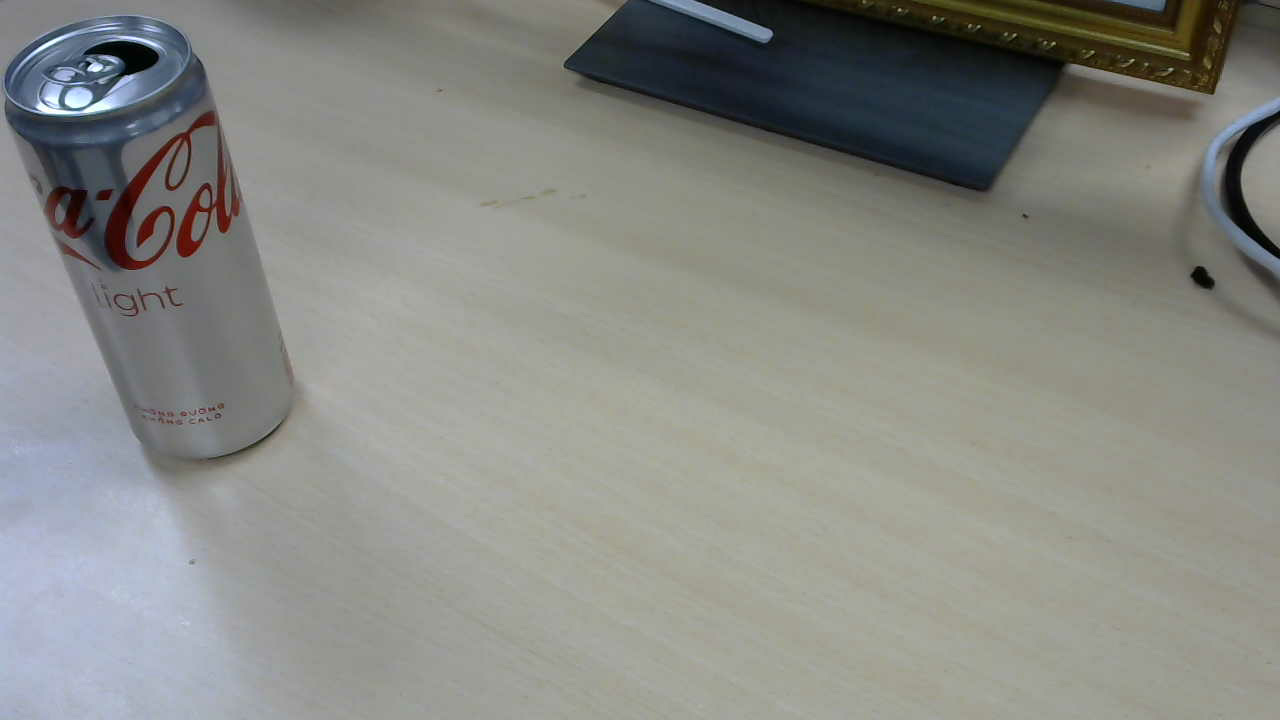Coca_Cola: (8, 20, 303, 468)
